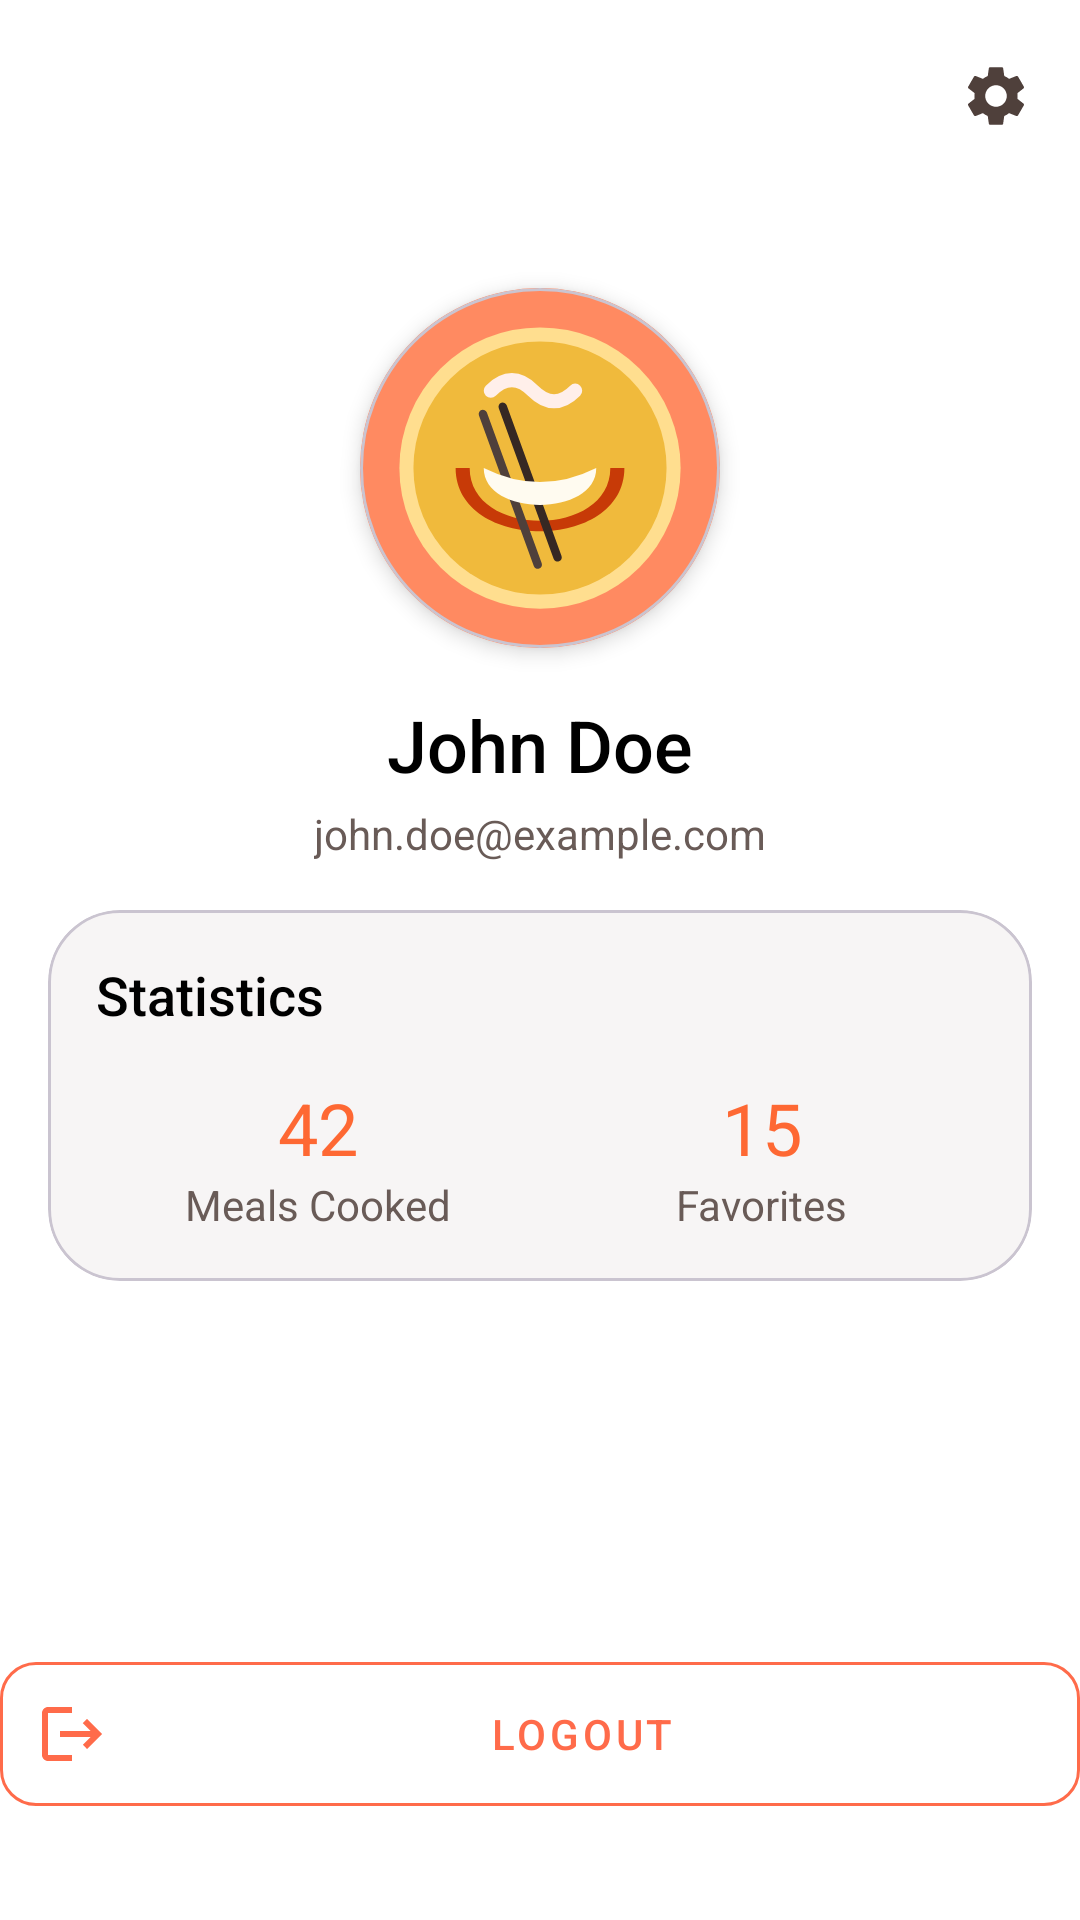

Screen size 1080px×1920px. Icon name, then its box in pixels as (left=x1, top=y1, right=x2, bottom=y2):
settings: (left=968, top=67, right=1024, bottom=125)
